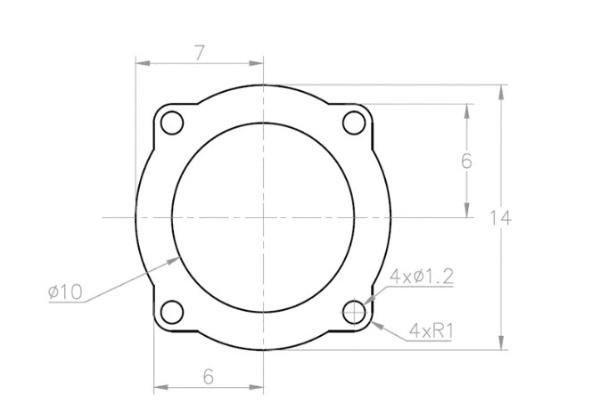dimensions: (383, 260, 463, 292), (35, 274, 98, 307), (402, 316, 470, 346), (445, 138, 485, 177), (185, 358, 225, 392), (185, 31, 218, 67), (488, 194, 516, 233)
